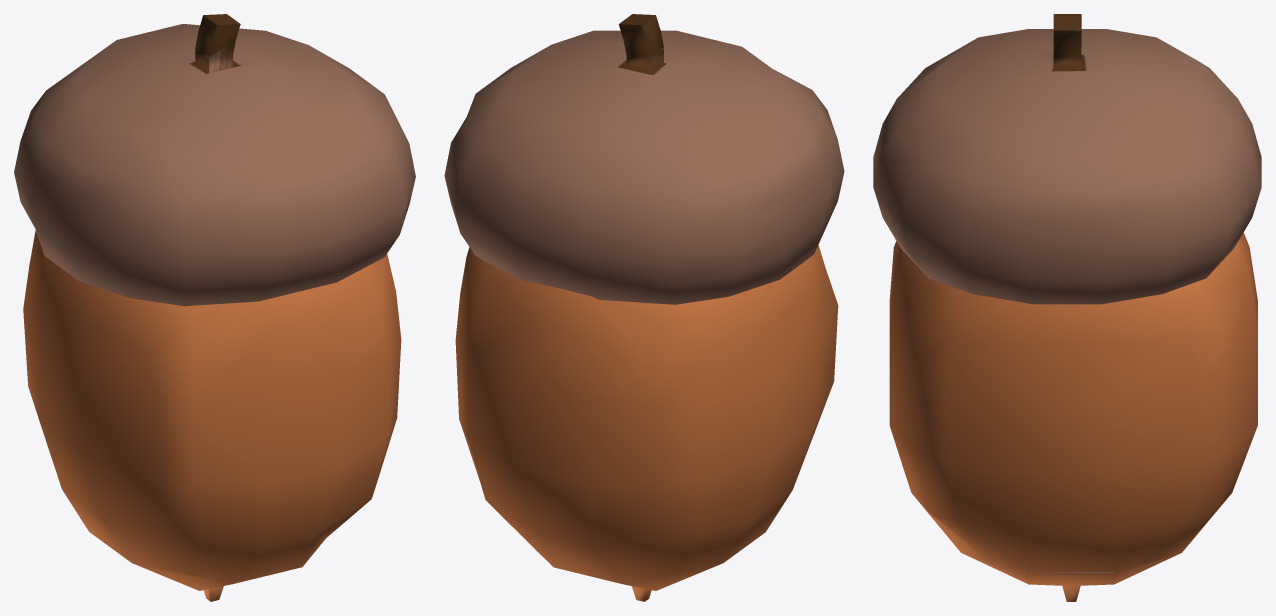
File: acorns.model.fbx
The picture shows the model from 3 angles, left to right: view 1: azimuth 30°, elevation 25°; view 2: azimuth 150°, elevation 25°; view 3: azimuth 270°, elevation 25°; orthographic projection.
Parts seen in each view (by area): view 1: polySurface2, polySurface1; view 2: polySurface2, polySurface1; view 3: polySurface2, polySurface1.
Part boxes in pixels (box(x1,y1,x2,y2)): polySurface2: box(23, 230, 401, 601); polySurface1: box(14, 14, 415, 306); polySurface2: box(455, 245, 838, 601); polySurface1: box(444, 14, 844, 304); polySurface2: box(889, 232, 1257, 601); polySurface1: box(873, 14, 1261, 304).
Size of the model in its own units: 16.53 by 27.95 by 16.85.
